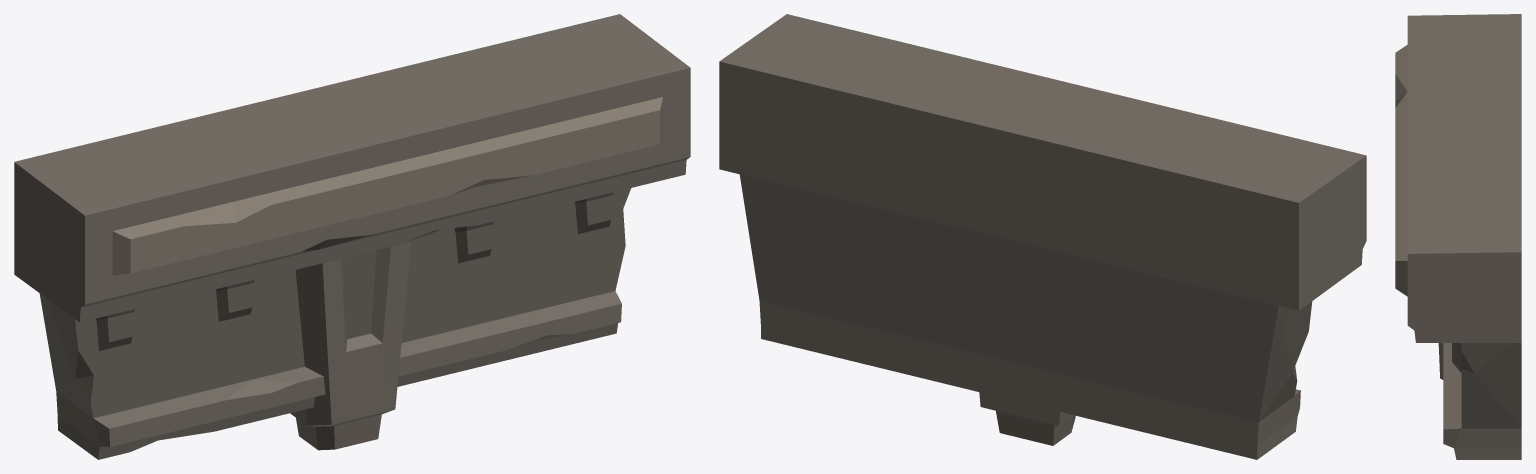
Rendered from SM_Bld_Wall_Topper_01.fbx.
3 renders of one model, left to right at view 1: azimuth 30°, elevation 25°; view 2: azimuth 150°, elevation 25°; view 3: azimuth 270°, elevation 25°, orthographic. The views are drawn at different scales.
Visible parts, largest first — view 1: SM_Bld_Wall_Topper_01; view 2: SM_Bld_Wall_Topper_01; view 3: SM_Bld_Wall_Topper_01.
Boxes of the visible parts, bbox=[...] form: SM_Bld_Wall_Topper_01: bbox=[14, 14, 690, 459]; SM_Bld_Wall_Topper_01: bbox=[719, 14, 1366, 459]; SM_Bld_Wall_Topper_01: bbox=[1395, 14, 1521, 459].
Bounding box in the file's own units: 250 × 130 × 55.94.
1 material, 1 textured.
